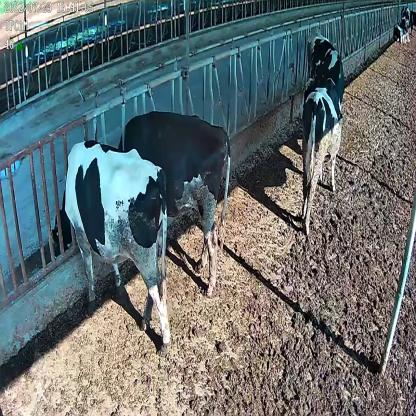cow: (51, 140, 173, 359), (117, 109, 231, 297), (299, 74, 341, 233), (306, 32, 346, 114)
